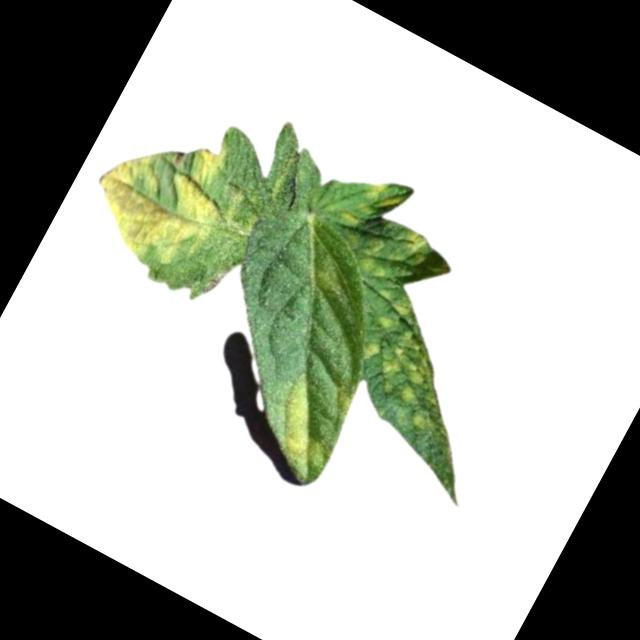Leaf_Mold: (74, 99, 265, 290), (335, 285, 498, 444), (257, 362, 361, 477), (337, 162, 415, 242), (389, 225, 439, 276)
